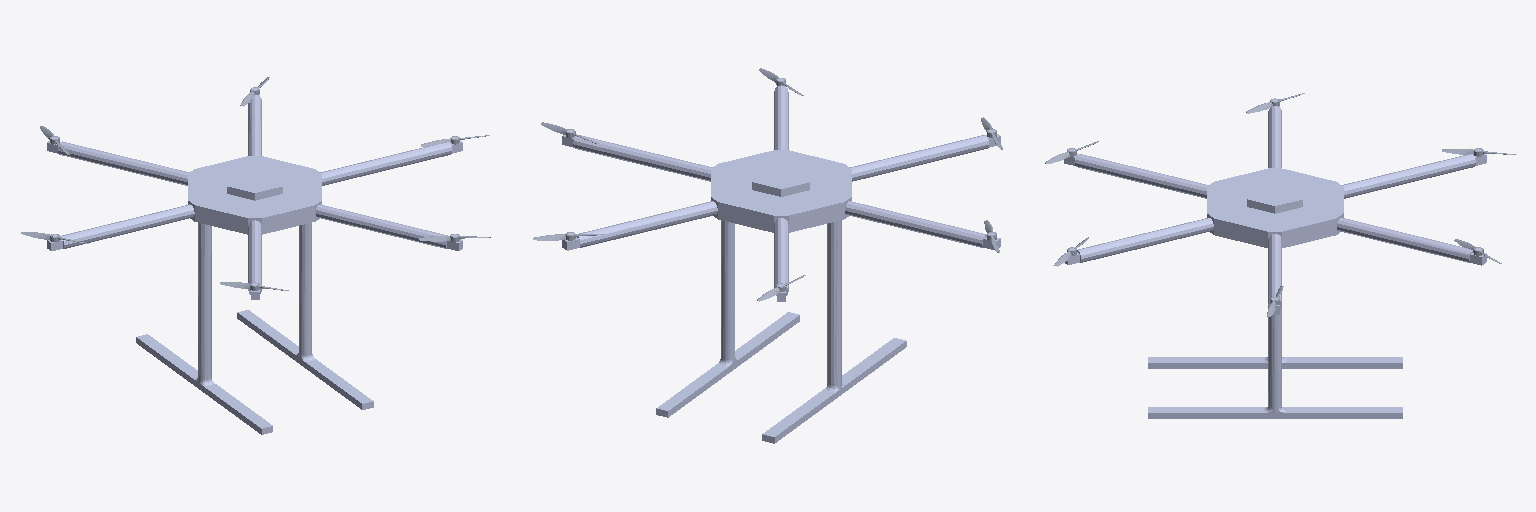
robot.urdf — dji_model:
<?xml version="1.0" encoding="utf-8"?>
<!-- This URDF was automatically created by SolidWorks to URDF Exporter! Originally created by [author] ([email redacted]) 
     Commit Version: 1.6.0-4-g7f85cfe  Build Version: 1.6.7995.38578
     For more information, please see http://wiki.ros.org/sw_urdf_exporter -->
<robot
  name="dji_model">
  <link
    name="base_link">
    <inertial>
      <origin
        xyz="-0.0366546574565618 -0.0366036625069469 0.0790145657965298"
        rpy="0 0 0" />
      <mass
        value="5.73386727346732" />
      <inertia
        ixx="0.227415676209938"
        ixy="-0.000662364261628311"
        ixz="0.000157366577009368"
        iyy="0.24826305034679"
        iyz="3.51675834404936E-05"
        izz="0.232217102011382" />
    </inertial>
    <visual>
      <origin
        xyz="0 0 0"
        rpy="0 0 0" />
      <geometry>
        <mesh
          filename="meshes/base_link.STL" />
      </geometry>
      <material
        name="">
        <color
          rgba="0.792156862745098 0.819607843137255 0.933333333333333 1" />
      </material>
    </visual>
    <collision>
      <origin
        xyz="0 0 0"
        rpy="0 0 0" />
      <geometry>
        <mesh
          filename="meshes/base_link.STL" />
      </geometry>
    </collision>
  </link>
  <link
    name="prop1">
    <inertial>
      <origin
        xyz="-3.04734570910625E-11 0.0066212036951226 2.72639577580946E-10"
        rpy="0 0 0" />
      <mass
        value="0.00615760432500399" />
      <inertia
        ixx="7.20200902278492E-06"
        ixy="1.05429060465242E-16"
        ixz="8.36128617871377E-08"
        iyy="7.2908363787462E-06"
        iyz="1.51295953651923E-15"
        izz="1.54590227370188E-07" />
    </inertial>
    <visual>
      <origin
        xyz="0 0 0"
        rpy="0 0 0" />
      <geometry>
        <mesh
          filename="meshes/prop1.STL" />
      </geometry>
      <material
        name="">
        <color
          rgba="0.666666666666667 0.698039215686274 0.768627450980392 1" />
      </material>
    </visual>
    <collision>
      <origin
        xyz="0 0 0"
        rpy="0 0 0" />
      <geometry>
        <mesh
          filename="meshes/prop1.STL" />
      </geometry>
    </collision>
  </link>
  <joint
    name="prop1_joint"
    type="continuous">
    <origin
      xyz="0.21675 0.35938 0.029119"
      rpy="1.5708 0 -0.90149" />
    <parent
      link="base_link" />
    <child
      link="prop1" />
    <axis
      xyz="0 1 0" />
    <limit
      effort="100"
      velocity="100" />
  </joint>
  <link
    name="prop2">
    <inertial>
      <origin
        xyz="-3.04820613195034E-11 0.00662121093234629 2.7253516110548E-10"
        rpy="0 0 0" />
      <mass
        value="0.00615762024425589" />
      <inertia
        ixx="7.20201139143544E-06"
        ixy="1.0527994465254E-16"
        ixz="8.36142849766262E-08"
        iyy="7.29083908409867E-06"
        iyz="1.51145765465141E-15"
        izz="1.54590514120735E-07" />
    </inertial>
    <visual>
      <origin
        xyz="0 0 0"
        rpy="0 0 0" />
      <geometry>
        <mesh
          filename="meshes/prop2.STL" />
      </geometry>
      <material
        name="">
        <color
          rgba="0.666666666666667 0.698039215686274 0.768627450980392 1" />
      </material>
    </visual>
    <collision>
      <origin
        xyz="0 0 0"
        rpy="0 0 0" />
      <geometry>
        <mesh
          filename="meshes/prop2.STL" />
      </geometry>
    </collision>
  </link>
  <joint
    name="prop2_joint"
    type="continuous">
    <origin
      xyz="-0.28959 0.35938 0.029119"
      rpy="1.5708 0 -0.13367" />
    <parent
      link="base_link" />
    <child
      link="prop2" />
    <axis
      xyz="0 1 0" />
    <limit
      effort="100"
      velocity="100" />
  </joint>
  <link
    name="prop3">
    <inertial>
      <origin
        xyz="-3.04324343503026E-11 0.00662120369516802 2.72482425511811E-10"
        rpy="0 0 0" />
      <mass
        value="0.00615760432496466" />
      <inertia
        ixx="7.20200902295538E-06"
        ixy="1.06783017549946E-16"
        ixz="8.36128617778664E-08"
        iyy="7.29083637891754E-06"
        iyz="1.51271427155882E-15"
        izz="1.54590227368092E-07" />
    </inertial>
    <visual>
      <origin
        xyz="0 0 0"
        rpy="0 0 0" />
      <geometry>
        <mesh
          filename="meshes/prop3.STL" />
      </geometry>
      <material
        name="">
        <color
          rgba="0.666666666666667 0.698039215686274 0.768627450980392 1" />
      </material>
    </visual>
    <collision>
      <origin
        xyz="0 0 0"
        rpy="0 0 0" />
      <geometry>
        <mesh
          filename="meshes/prop3.STL" />
      </geometry>
    </collision>
  </link>
  <joint
    name="prop3_joint"
    type="continuous">
    <origin
      xyz="-0.54276 -0.079123 0.029119"
      rpy="1.5708 0 0.6776" />
    <parent
      link="base_link" />
    <child
      link="prop3" />
    <axis
      xyz="0 1 0" />
    <limit
      effort="100"
      velocity="100" />
  </joint>
  <link
    name="prop4">
    <inertial>
      <origin
        xyz="-3.05253600174638E-11 0.00662120310130632 2.71811628760332E-10"
        rpy="0 0 0" />
      <mass
        value="0.00615760194078875" />
      <inertia
        ixx="7.20200806560242E-06"
        ixy="1.04743813115206E-16"
        ixz="8.36126707807466E-08"
        iyy="7.29083537603809E-06"
        iyz="1.50226581030572E-15"
        izz="1.54590153314487E-07" />
    </inertial>
    <visual>
      <origin
        xyz="0 0 0"
        rpy="0 0 0" />
      <geometry>
        <mesh
          filename="meshes/prop4.STL" />
      </geometry>
      <material
        name="">
        <color
          rgba="0.666666666666667 0.698039215686274 0.768627450980392 1" />
      </material>
    </visual>
    <collision>
      <origin
        xyz="0 0 0"
        rpy="0 0 0" />
      <geometry>
        <mesh
          filename="meshes/prop4.STL" />
      </geometry>
    </collision>
  </link>
  <joint
    name="prop4_joint"
    type="continuous">
    <origin
      xyz="-0.28959 -0.51763 0.029119"
      rpy="1.5708 0 -2.3617" />
    <parent
      link="base_link" />
    <child
      link="prop4" />
    <axis
      xyz="0 1 0" />
    <limit
      effort="100"
      velocity="100" />
  </joint>
  <link
    name="prop5">
    <inertial>
      <origin
        xyz="-3.04970493303358E-11 0.00662121125951859 2.72262878908691E-10"
        rpy="0 0 0" />
      <mass
        value="0.00615763008295521" />
      <inertia
        ixx="7.20201284534689E-06"
        ixy="1.0509825824897E-16"
        ixz="8.36142374512711E-08"
        iyy="7.29084055657243E-06"
        iyz="1.50799923421817E-15"
        izz="1.54590723174322E-07" />
    </inertial>
    <visual>
      <origin
        xyz="0 0 0"
        rpy="0 0 0" />
      <geometry>
        <mesh
          filename="meshes/prop5.STL" />
      </geometry>
      <material
        name="">
        <color
          rgba="0.666666666666667 0.698039215686274 0.768627450980392 1" />
      </material>
    </visual>
    <collision>
      <origin
        xyz="0 0 0"
        rpy="0 0 0" />
      <geometry>
        <mesh
          filename="meshes/prop5.STL" />
      </geometry>
    </collision>
  </link>
  <joint
    name="prop5_joint"
    type="continuous">
    <origin
      xyz="0.21675 -0.51763 0.029119"
      rpy="1.5708 0 -2.0258" />
    <parent
      link="base_link" />
    <child
      link="prop5" />
    <axis
      xyz="0 1 0" />
    <limit
      effort="100"
      velocity="100" />
  </joint>
  <link
    name="prop6">
    <inertial>
      <origin
        xyz="-3.04426206465536E-11 0.00662121093241127 2.72400102474535E-10"
        rpy="0 0 0" />
      <mass
        value="0.00615762024416031" />
      <inertia
        ixx="7.2020113914285E-06"
        ixy="1.06570012980948E-16"
        ixz="8.36142849793802E-08"
        iyy="7.29083908409208E-06"
        iyz="1.51127818093813E-15"
        izz="1.54590514117569E-07" />
    </inertial>
    <visual>
      <origin
        xyz="0 0 0"
        rpy="0 0 0" />
      <geometry>
        <mesh
          filename="meshes/prop6.STL" />
      </geometry>
      <material
        name="">
        <color
          rgba="0.666666666666667 0.698039215686274 0.768627450980392 1" />
      </material>
    </visual>
    <collision>
      <origin
        xyz="0 0 0"
        rpy="0 0 0" />
      <geometry>
        <mesh
          filename="meshes/prop6.STL" />
      </geometry>
    </collision>
  </link>
  <joint
    name="prop6_joint"
    type="continuous">
    <origin
      xyz="0.46992 -0.079123 0.029119"
      rpy="1.5708 0 1.3853" />
    <parent
      link="base_link" />
    <child
      link="prop6" />
    <axis
      xyz="0 1 0" />
    <limit
      effort="100"
      velocity="100" />
  </joint>
</robot>

--- Facts derived from the render (not from the file) ---
The picture shows the robot from 3 angles, left to right: view 1: azimuth 30°, elevation 25°; view 2: azimuth 150°, elevation 25°; view 3: azimuth 270°, elevation 25°; orthographic projection.
Model dji_model with 7 links and 6 joints (6 continuous), rooted at base_link, posed all joints at 0.
Visible links, largest first — view 1: base_link; view 2: base_link; view 3: base_link.
Boxes of the visible links, <box> form: base_link: <box>47,88,462,434</box>; base_link: <box>562,78,1000,443</box>; base_link: <box>1064,99,1486,418</box>.
Size in the robot's own frame: 1.14 by 1.02 by 0.473 metres.
Meshes: 7 distinct files referenced, 7 mesh visuals loaded (7 binary STL).